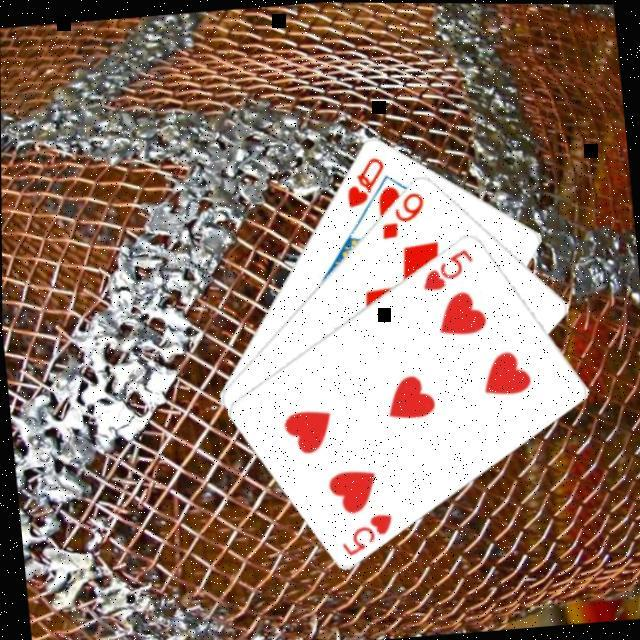5H: (333, 508, 397, 558), (416, 244, 478, 295)
9D: (373, 186, 428, 242)
QH: (338, 152, 389, 210)
